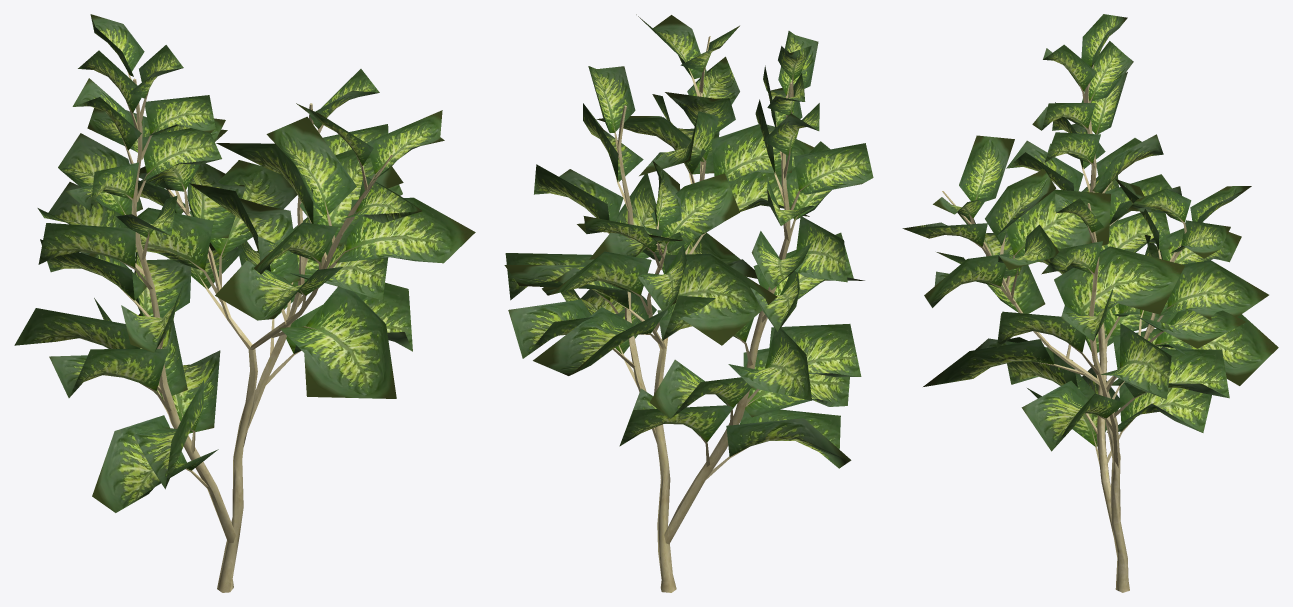
File: tropical-plant.lod0.glb
The picture shows the model from 3 angles, left to right: view 1: azimuth 30°, elevation 25°; view 2: azimuth 150°, elevation 25°; view 3: azimuth 270°, elevation 25°; orthographic projection. The views are drawn at different scales.
Visible parts, largest first — view 1: Tree_1_Tree_1Mat_0, Tree_0_Tree_0Mat_0; view 2: Tree_1_Tree_1Mat_0, Tree_0_Tree_0Mat_0; view 3: Tree_1_Tree_1Mat_0, Tree_0_Tree_0Mat_0.
Boxes of the visible parts, x1,y1,x2,y2 form: Tree_1_Tree_1Mat_0: (14, 14, 475, 512); Tree_0_Tree_0Mat_0: (118, 72, 392, 592); Tree_1_Tree_1Mat_0: (504, 14, 873, 468); Tree_0_Tree_0Mat_0: (592, 36, 809, 592); Tree_1_Tree_1Mat_0: (902, 14, 1278, 451); Tree_0_Tree_0Mat_0: (942, 64, 1186, 592).
Bounding box in the file's own units: 0.8451 × 1.4 × 0.9246.
2 materials, 2 textured.
